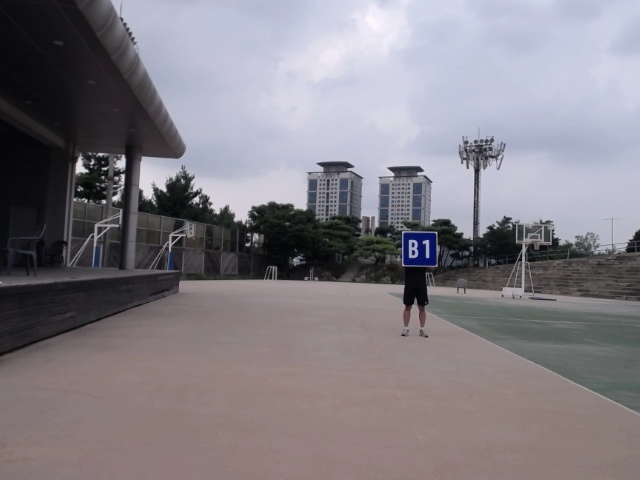delivery_b1: (402, 231, 438, 267)
